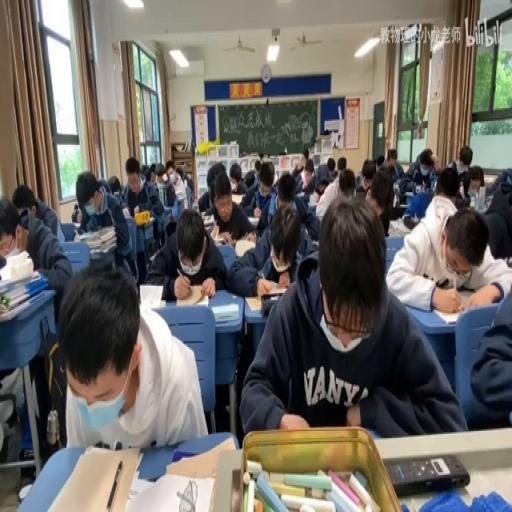calculator: (40, 442, 140, 509), (127, 471, 216, 512), (163, 435, 234, 479), (0, 288, 45, 322), (432, 297, 490, 323), (0, 266, 42, 294), (138, 283, 163, 309), (174, 290, 209, 307), (212, 302, 238, 322), (258, 279, 286, 296), (234, 236, 256, 256), (387, 218, 408, 236), (243, 294, 263, 312), (132, 213, 154, 226), (155, 183, 165, 205), (468, 189, 478, 206), (230, 193, 244, 205), (306, 200, 318, 214), (210, 222, 219, 240), (294, 189, 307, 201), (246, 215, 260, 226), (202, 213, 214, 225), (175, 194, 184, 210), (404, 189, 414, 201), (482, 175, 496, 183), (71, 222, 82, 232), (192, 200, 198, 212), (122, 206, 128, 218), (73, 232, 80, 240)
paper: (238, 195, 460, 438), (63, 259, 205, 451), (0, 189, 72, 467), (462, 266, 510, 429), (144, 204, 227, 298), (75, 168, 135, 280), (261, 166, 319, 240), (205, 170, 256, 244), (122, 156, 160, 230), (364, 165, 402, 236), (482, 169, 511, 259), (399, 146, 438, 202), (442, 144, 474, 196), (158, 161, 185, 219), (314, 168, 344, 215), (0, 209, 24, 256), (337, 167, 355, 199), (468, 165, 483, 188), (361, 160, 374, 184), (107, 174, 121, 196), (243, 168, 256, 189), (182, 169, 193, 192), (374, 152, 385, 172), (139, 163, 149, 185), (71, 204, 82, 224), (228, 165, 240, 183), (154, 166, 166, 184), (429, 154, 440, 172), (291, 161, 304, 176), (270, 164, 278, 186), (337, 155, 346, 171), (386, 150, 396, 164), (302, 145, 310, 161), (326, 156, 335, 170), (303, 165, 312, 179), (455, 158, 466, 169), (253, 158, 260, 173), (176, 165, 182, 182), (149, 162, 156, 176)
person: (386, 454, 470, 496), (259, 292, 285, 314), (395, 202, 408, 218)
